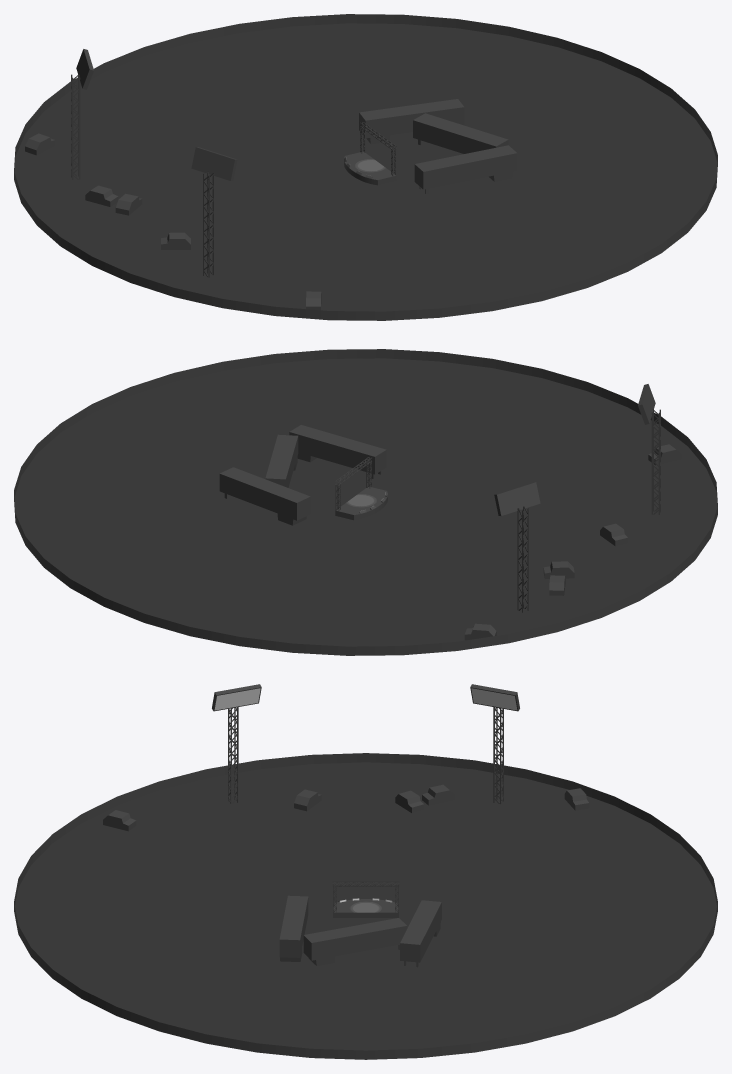
The model's file is SM_ConcertVenue.fbx.
3 views of the same model, one above another, from view 1: azimuth 30°, elevation 25°; view 2: azimuth 150°, elevation 25°; view 3: azimuth 270°, elevation 25° (orthographic).
Visible parts, largest first — view 1: Circle, Cube.002, G_Trailer.002, G_Trailer, G_Trailer.001, G_Stage.002, G_Stage, Cube.004; view 2: Circle, Cube.002, G_Trailer, G_Trailer.002, G_Trailer.001, G_Stage.002, G_Stage; view 3: Circle, Cube.002, G_Trailer.001, G_Trailer, G_Trailer.002, G_Stage.002.
Part boxes in pixels (x1,y1,x2,y2): Circle: (14, 14, 717, 320); Cube.002: (71, 49, 237, 277); G_Trailer.002: (414, 145, 517, 194); G_Trailer: (359, 99, 464, 144); G_Trailer.001: (413, 113, 508, 153); G_Stage.002: (344, 151, 396, 185); G_Stage: (360, 122, 396, 175); Cube.004: (85, 185, 118, 206); Circle: (14, 349, 717, 655); Cube.002: (494, 384, 660, 612); G_Trailer: (219, 467, 310, 525); G_Trailer.002: (289, 425, 386, 478); G_Trailer.001: (265, 434, 298, 487); G_Stage.002: (335, 486, 387, 520); G_Stage: (335, 457, 371, 510); Circle: (14, 753, 717, 1059); Cube.002: (212, 684, 519, 804); G_Trailer.001: (303, 918, 407, 966); G_Trailer: (400, 900, 441, 967); G_Trailer.002: (279, 895, 308, 961); G_Stage.002: (333, 898, 398, 917).
Size of the model in its own units: 8037 by 1511 by 8037.
Materials: 4 (3 with a texture image).
